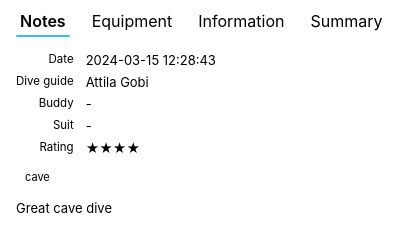
Test: InfoPanel › switches to Information and shows computed depth/temp
Click the tab "Information": click(241, 21) left=186, top=6, right=296, bottom=36
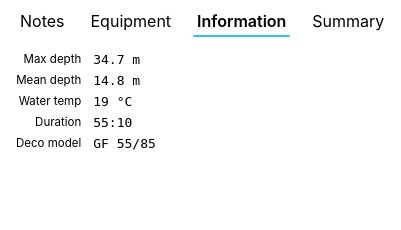
Check: the text "34.7 m" is shown, box left=93, top=52, right=140, bottom=67
